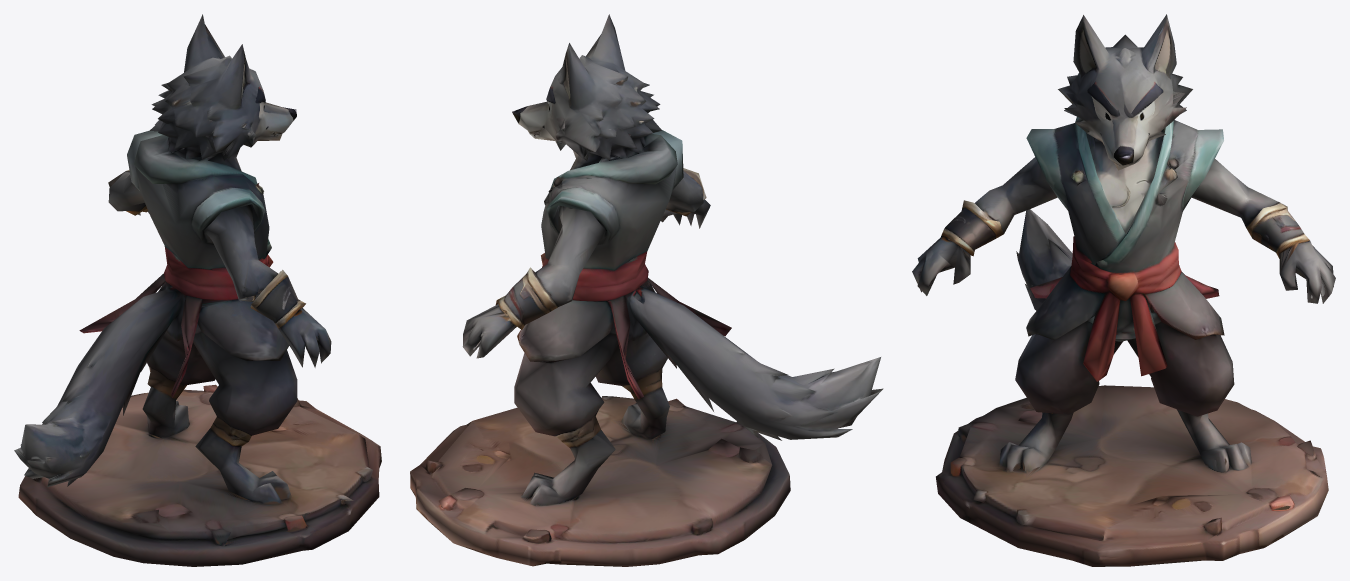
The model's file is wolf-studio-v31-retopo.glb.
The picture shows the model from 3 angles, left to right: view 1: azimuth 30°, elevation 25°; view 2: azimuth 150°, elevation 25°; view 3: azimuth 270°, elevation 25°; orthographic projection. The views are drawn at different scales.
Visible parts, largest first — view 1: tripo_node_b60fd4a2-6745-4cee-b44d-ae213685db5f; view 2: tripo_node_b60fd4a2-6745-4cee-b44d-ae213685db5f; view 3: tripo_node_b60fd4a2-6745-4cee-b44d-ae213685db5f.
Boxes of the visible parts, x1=… form: tripo_node_b60fd4a2-6745-4cee-b44d-ae213685db5f: x1=14, y1=14, x2=381, y2=566; tripo_node_b60fd4a2-6745-4cee-b44d-ae213685db5f: x1=410, y1=14, x2=883, y2=566; tripo_node_b60fd4a2-6745-4cee-b44d-ae213685db5f: x1=912, y1=14, x2=1335, y2=566.
Bounding box in the file's own units: 0.8914 × 0.9828 × 0.7867.
1 material, 1 textured.
